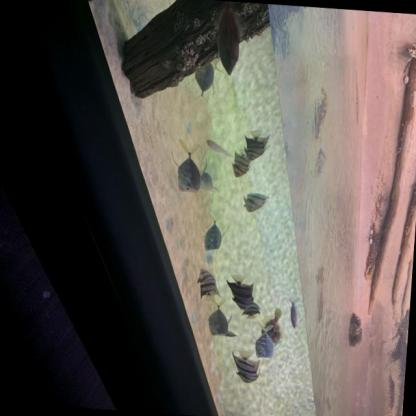fish: (209, 2, 248, 78), (168, 135, 210, 195), (196, 208, 230, 254), (202, 294, 234, 340), (228, 346, 263, 386), (224, 272, 256, 312), (188, 58, 216, 102), (249, 320, 278, 360), (241, 127, 271, 164), (260, 306, 286, 348), (195, 266, 223, 304), (241, 188, 272, 216), (230, 146, 254, 180), (195, 167, 221, 196), (204, 138, 235, 161), (207, 44, 229, 76), (285, 295, 300, 329), (240, 299, 261, 322), (214, 328, 239, 341)
